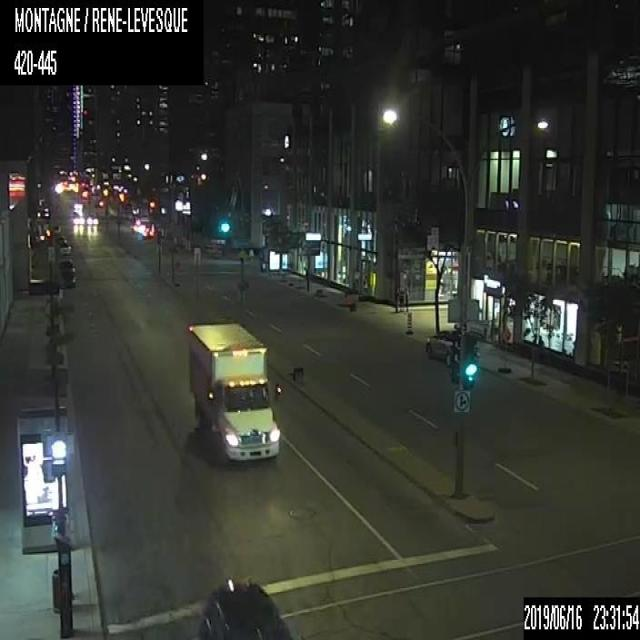construction: (405, 311, 413, 332)
vehicle: (186, 323, 279, 464), (196, 582, 291, 638), (424, 327, 478, 365), (56, 258, 76, 288), (57, 242, 71, 255), (85, 212, 98, 224), (72, 212, 84, 225), (142, 227, 155, 237), (73, 202, 82, 211)
